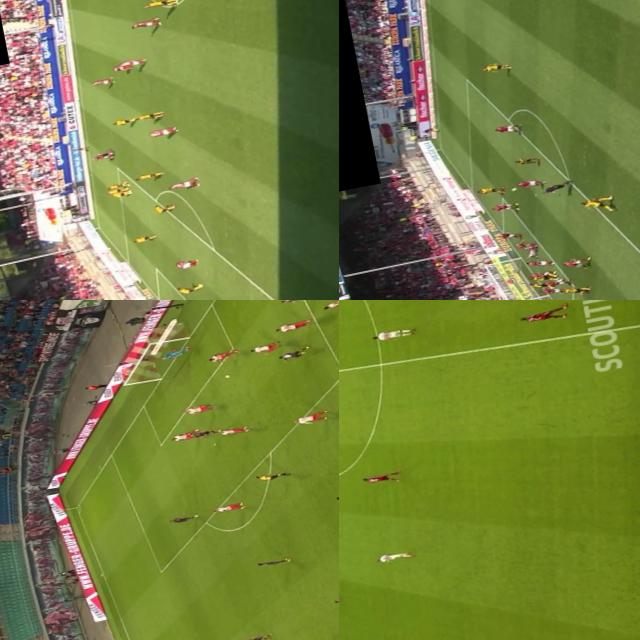ball: (218, 372, 232, 382), (507, 187, 518, 194), (106, 156, 114, 160)
player: (518, 306, 563, 326), (574, 194, 612, 212), (271, 318, 310, 335), (276, 346, 312, 364), (292, 410, 328, 428), (361, 472, 400, 488), (376, 549, 412, 566), (561, 252, 594, 270), (127, 16, 164, 32), (159, 344, 191, 362), (165, 176, 200, 192), (558, 283, 593, 299), (373, 328, 410, 343), (138, 0, 181, 12), (478, 60, 512, 75), (133, 110, 164, 126), (206, 349, 238, 364), (170, 428, 200, 444), (129, 170, 163, 184), (183, 402, 214, 417), (144, 126, 176, 140), (213, 502, 244, 516), (214, 426, 249, 438), (514, 177, 546, 190), (256, 556, 290, 568), (174, 282, 203, 296), (513, 237, 540, 252), (540, 277, 572, 289), (249, 341, 278, 354), (187, 426, 214, 439), (118, 56, 147, 68), (526, 269, 555, 281), (490, 202, 519, 214), (110, 116, 136, 129), (152, 202, 176, 216), (173, 260, 197, 274), (88, 76, 115, 88), (132, 232, 159, 244), (512, 156, 541, 167), (494, 230, 520, 242), (108, 62, 136, 73), (524, 243, 541, 261), (528, 272, 555, 283), (536, 286, 565, 296), (524, 258, 550, 269), (492, 124, 520, 134), (170, 514, 197, 524), (475, 187, 501, 196), (526, 282, 554, 290), (240, 633, 269, 640), (320, 300, 339, 310), (522, 294, 553, 300), (98, 150, 114, 161), (106, 187, 126, 195), (106, 182, 125, 190), (280, 300, 314, 304), (112, 191, 130, 198), (332, 594, 339, 608)
